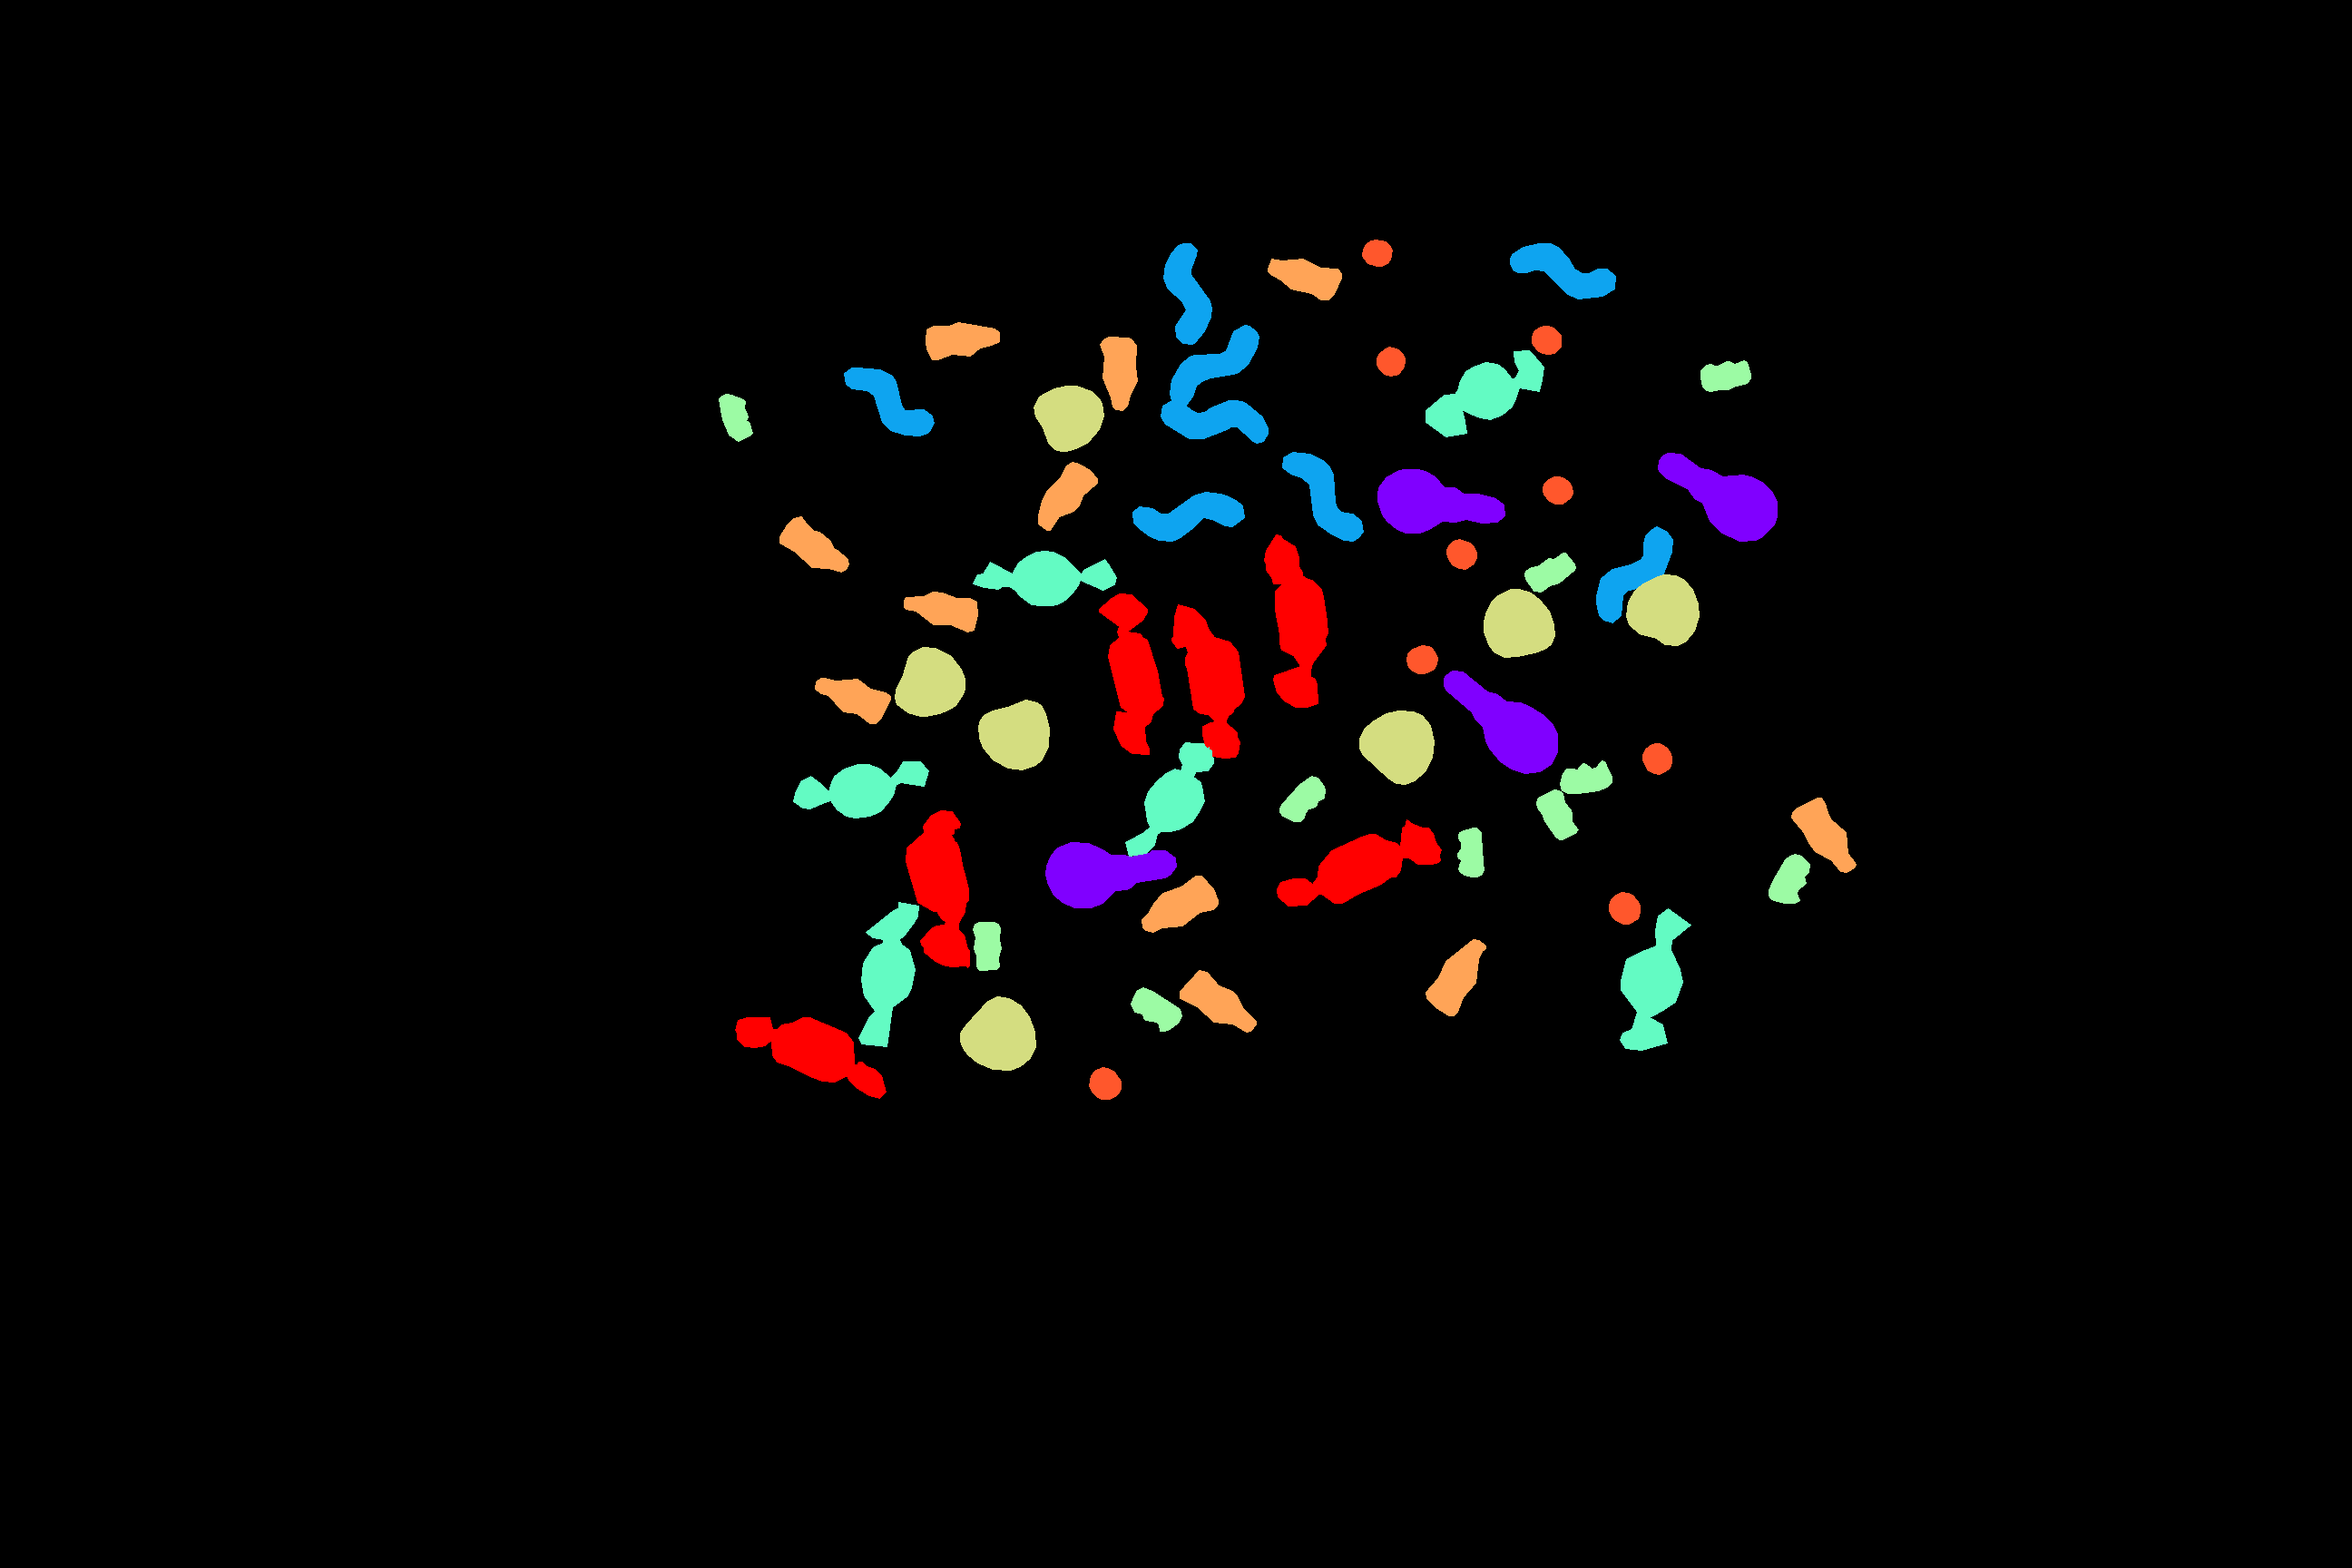apricot_jellies: (961, 996, 1036, 1069), (1360, 710, 1433, 784), (1626, 574, 1699, 646), (978, 700, 1048, 770), (894, 647, 964, 716), (1484, 590, 1554, 656), (1034, 385, 1104, 451)
bear: (1130, 987, 1181, 1031), (1536, 789, 1579, 840), (1769, 854, 1809, 903), (1524, 553, 1575, 591), (1281, 777, 1325, 821), (1559, 761, 1612, 793), (719, 394, 753, 441), (1701, 360, 1750, 390), (973, 922, 1001, 970), (1458, 828, 1484, 877)
cola bottle candies: (1179, 970, 1256, 1032), (1792, 798, 1855, 871), (1426, 940, 1486, 1015), (1141, 875, 1218, 933), (1038, 462, 1097, 530), (779, 516, 849, 572), (816, 677, 891, 723), (903, 591, 976, 632), (1267, 259, 1340, 299), (1099, 336, 1138, 409), (926, 322, 999, 359)
dummies: (1444, 670, 1558, 773), (1657, 453, 1776, 541), (1045, 842, 1176, 908), (1377, 469, 1505, 532)
riesen: (1277, 819, 1440, 905), (735, 1017, 886, 1097), (1171, 604, 1244, 758), (1264, 534, 1328, 707), (1099, 593, 1164, 754), (905, 810, 970, 968)
skittles: (1608, 892, 1640, 924), (1089, 1068, 1120, 1099), (1447, 539, 1477, 569), (1542, 476, 1573, 504), (1407, 646, 1437, 674), (1643, 744, 1671, 773), (1531, 325, 1561, 353), (1377, 347, 1405, 376), (1362, 240, 1391, 266)
sourworms: (1596, 527, 1673, 623), (1283, 451, 1363, 541), (1169, 325, 1258, 404), (843, 367, 935, 436), (1510, 243, 1615, 299), (1132, 492, 1244, 541), (1164, 243, 1211, 345), (1160, 401, 1267, 443)
vollmilch_brocken: (1426, 350, 1543, 436), (1125, 742, 1213, 856), (1620, 908, 1690, 1050), (859, 901, 919, 1046), (973, 551, 1117, 606), (793, 761, 927, 817)
